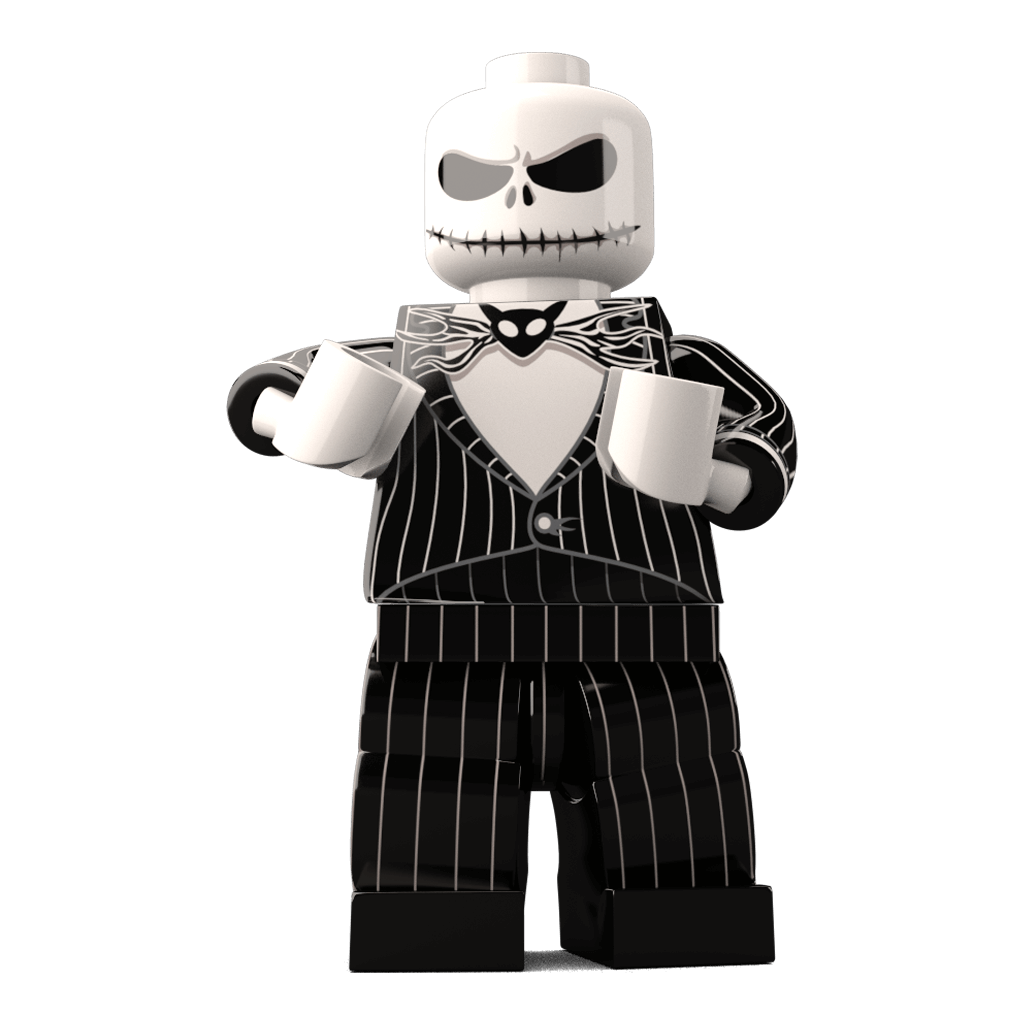Jack Skellington: (225, 47, 803, 978)
